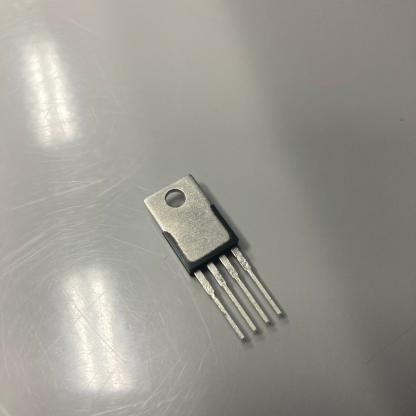SP0000012: (104, 139, 362, 387)
